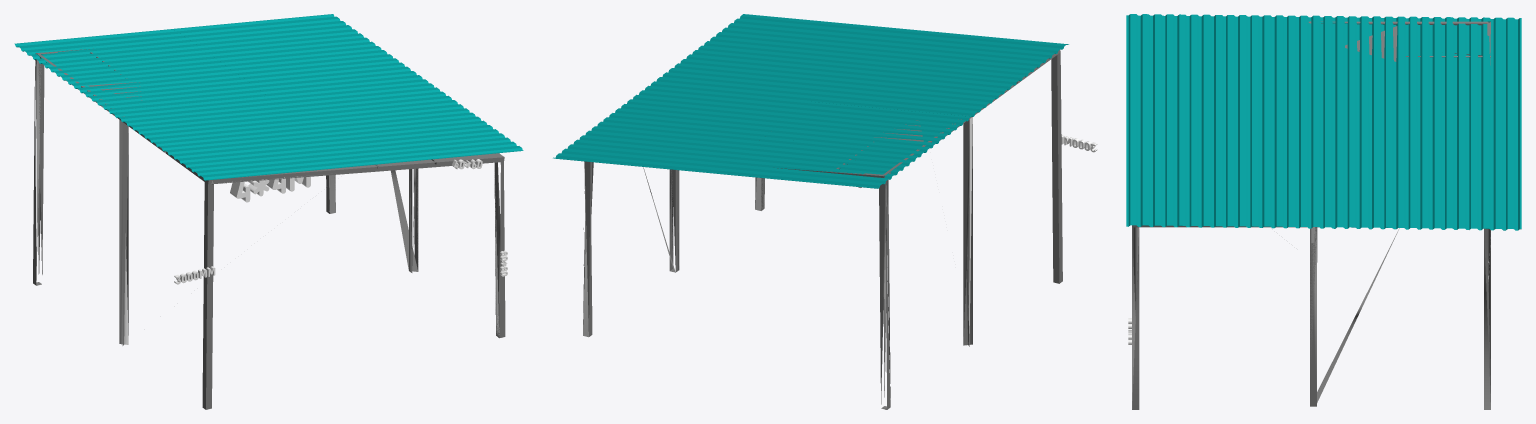
The model's file is single_slope_carport.glb.
3 renders of one model, left to right at view 1: azimuth 30°, elevation 25°; view 2: azimuth 150°, elevation 25°; view 3: azimuth 270°, elevation 25°, orthographic. The views are drawn at different scales.
Parts seen in each view (by area): view 1: a0f64758-b47f-473e-8e4a-2c1f2f35acc4; view 2: a0f64758-b47f-473e-8e4a-2c1f2f35acc4; view 3: a0f64758-b47f-473e-8e4a-2c1f2f35acc4.
Part boxes in pixels (<box>): a0f64758-b47f-473e-8e4a-2c1f2f35acc4: <box>14,14,523,409</box>; a0f64758-b47f-473e-8e4a-2c1f2f35acc4: <box>553,14,1097,409</box>; a0f64758-b47f-473e-8e4a-2c1f2f35acc4: <box>1126,14,1521,409</box>.
Bounding box in the file's own units: 464 × 298 × 440.
